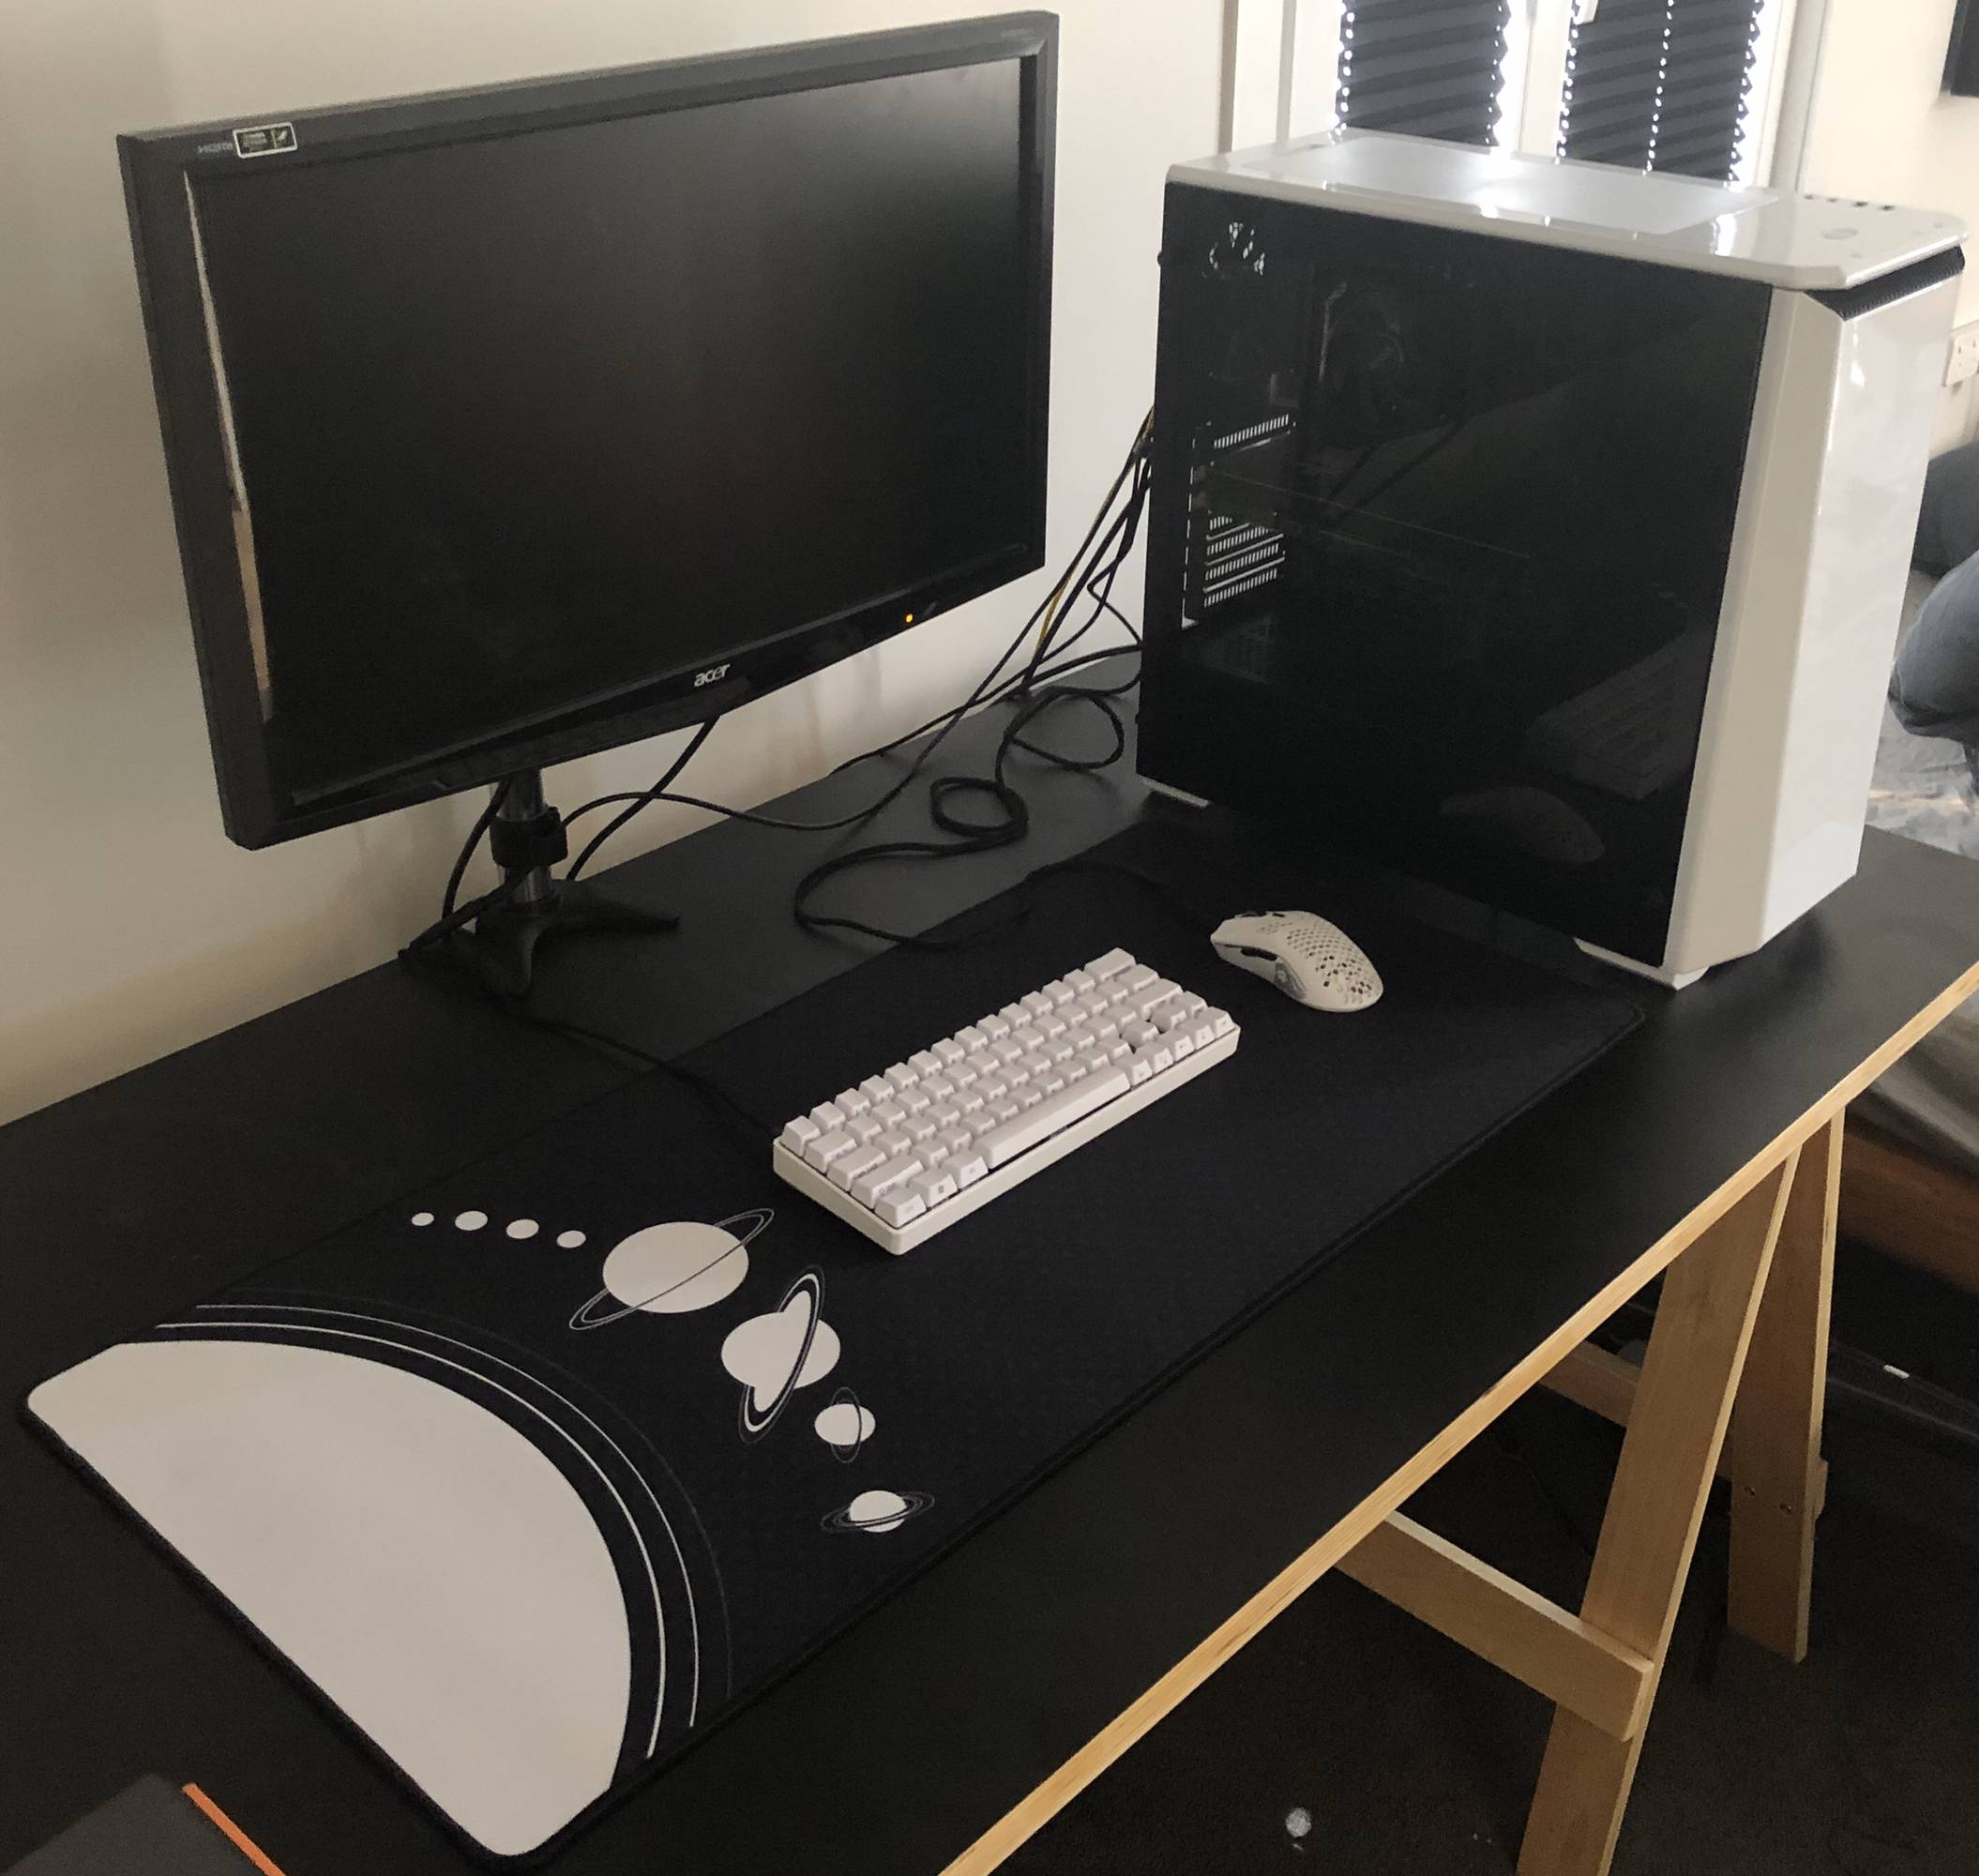Desk (Generic): (9, 770, 1979, 1874)
Desktop (Generic): (1119, 123, 1968, 1024)
Keyboard (Generic): (726, 926, 1260, 1268)
Monitor (Landscape): (93, 11, 1073, 859)
Mouse (Generic): (1174, 890, 1422, 1031)
Mousepad (Gaming): (65, 846, 1685, 1850)
